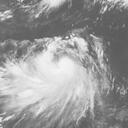cyclone: (5, 37, 97, 123)
